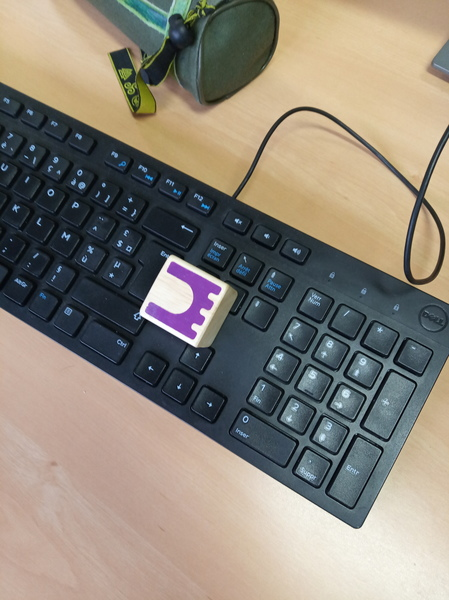violet: (142, 255, 220, 348)
